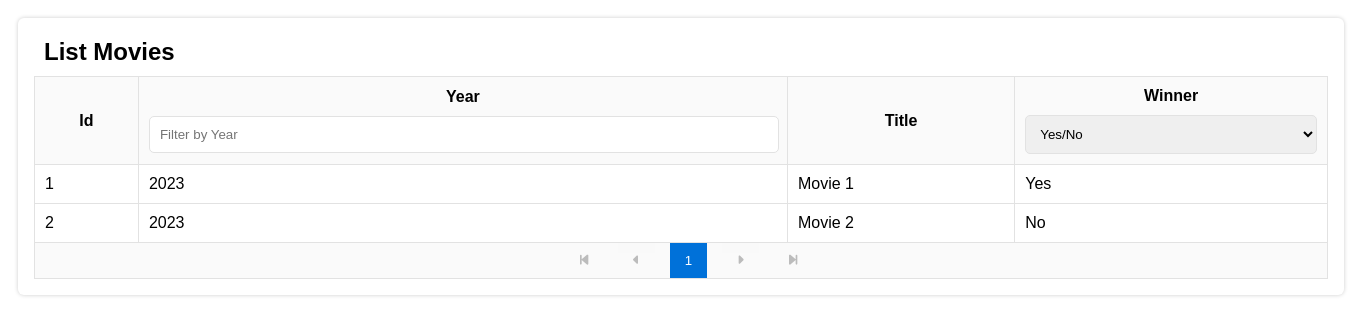
MovieList component › filters movies by year
This screenshot has width=1363, height=314.
Type "2022" into the field with placeholder "Filter by Year" at (464, 134), box [149,116,779,153]
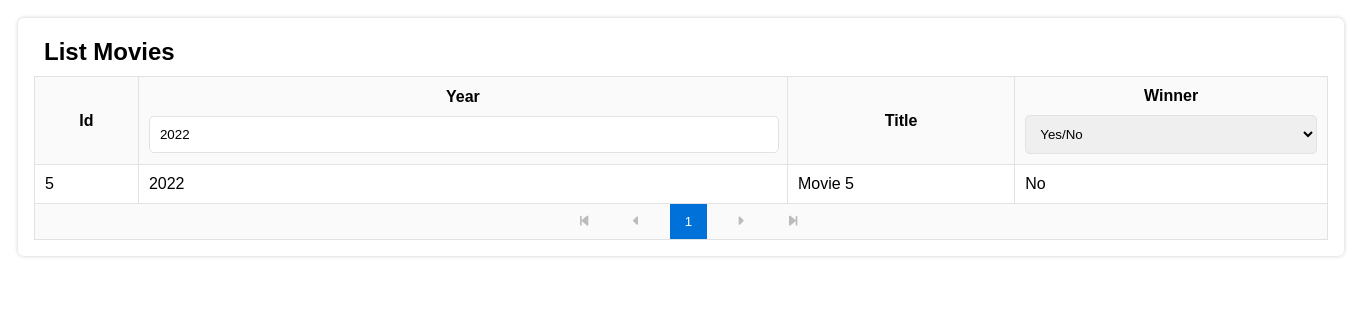
Expected: the text "Movie 5" is shown, [788,164,1015,204]
